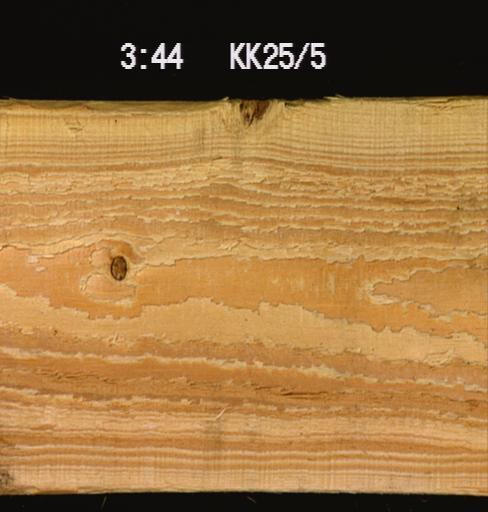dry_knot: (108, 253, 128, 281)
split: (421, 96, 461, 108)
wave: (0, 95, 418, 108)
